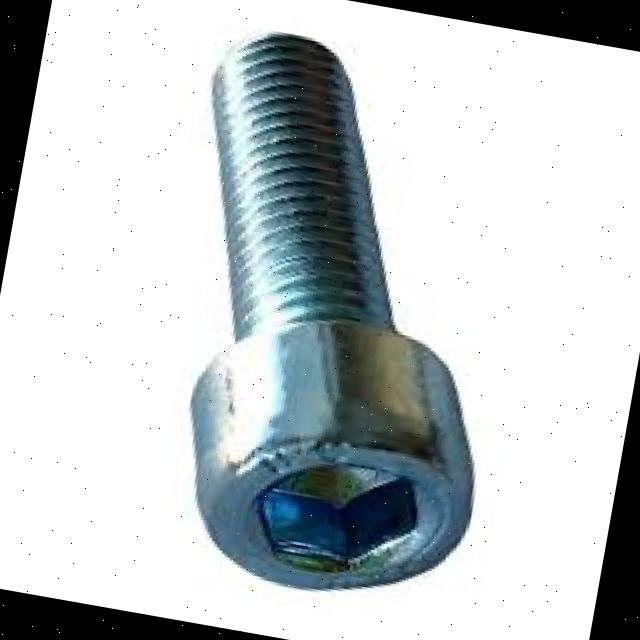Hex Socket Allen: (192, 418, 480, 616)
